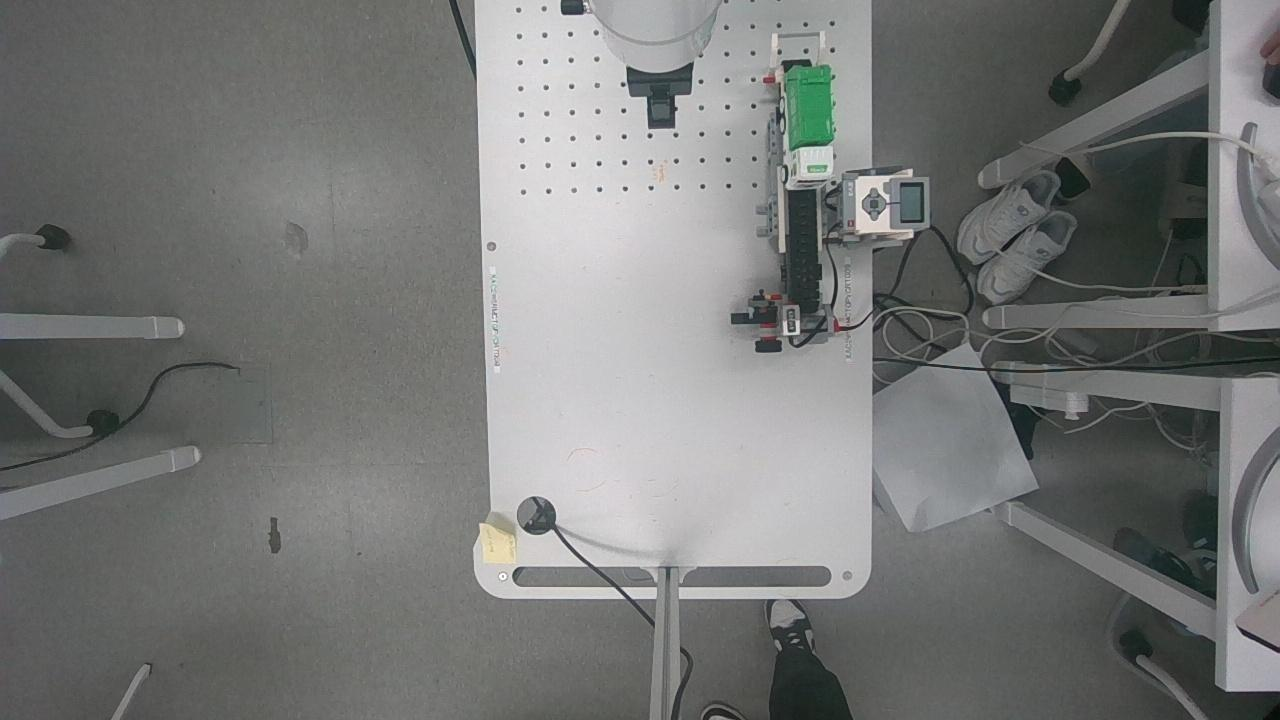truck: (764, 48, 844, 201)
